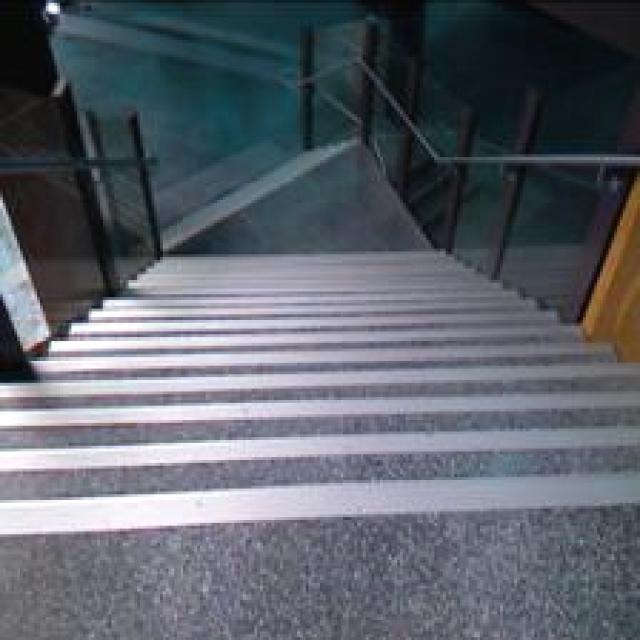downstair: (10, 352, 635, 541)
